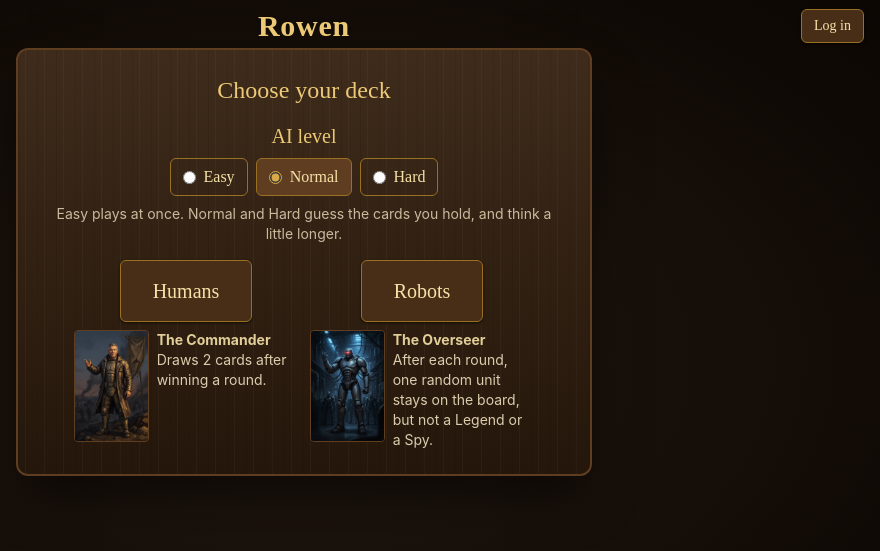
it: when a match can't start, with no answer, the page says it can't reach the server
Click the button "Humans".
click(186, 291)  # box [120,260,252,322]
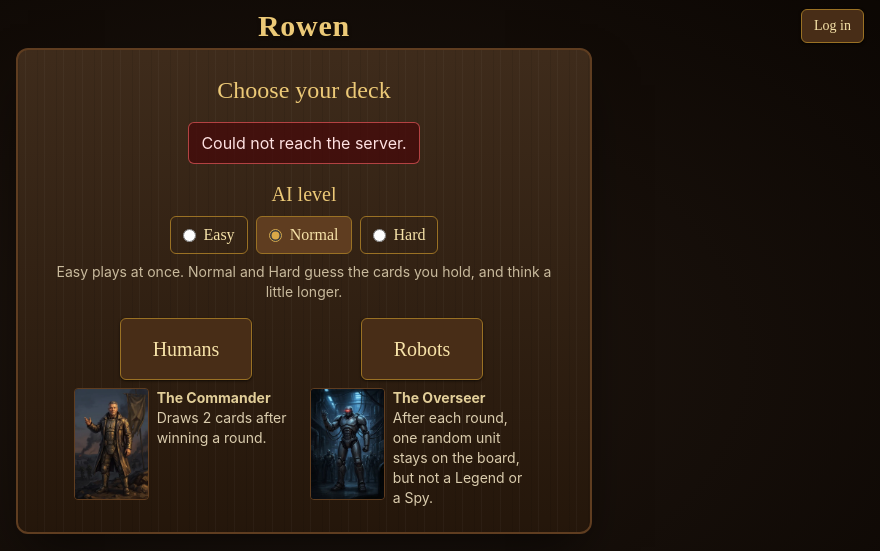
Check: the message reads "Could not reach the server.", box [201,133,407,153]
